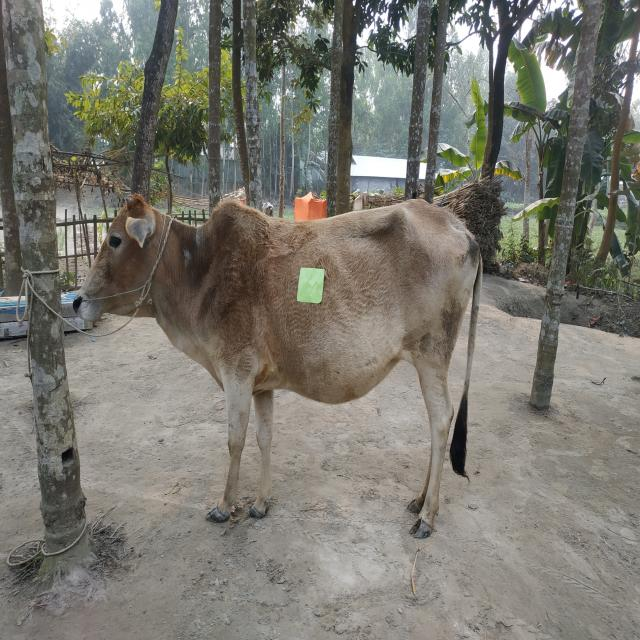badan_sapi: (205, 206, 477, 404)
sapi: (70, 184, 497, 548)
